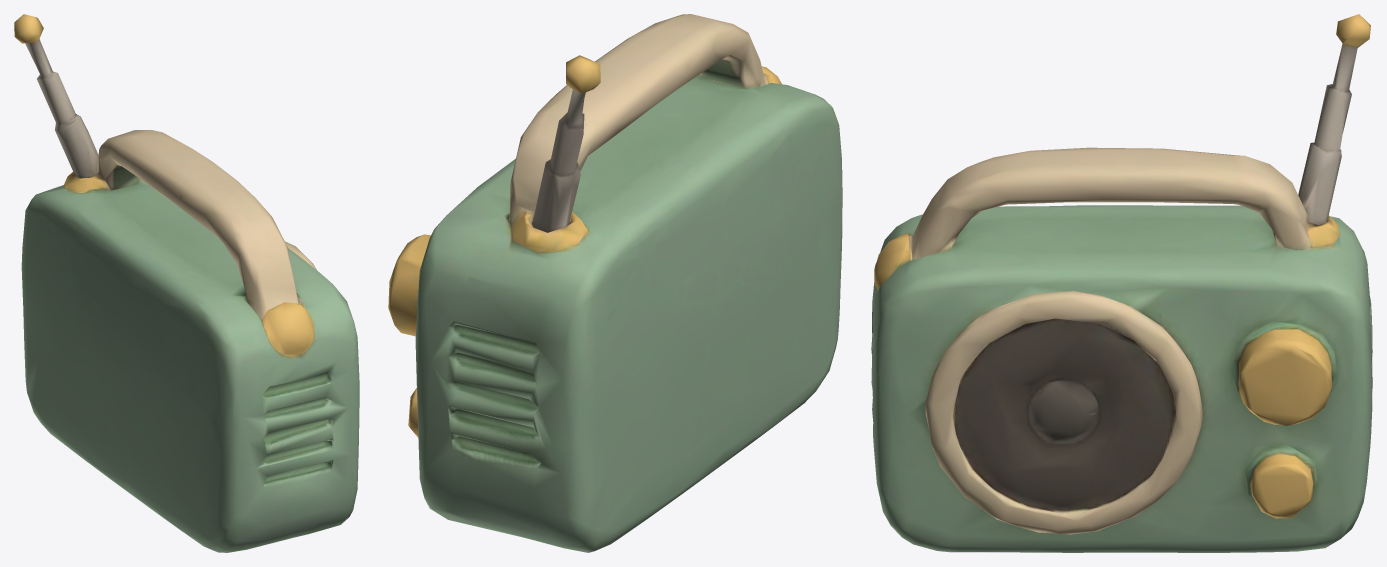
File: f-radio.glb
3 renders of one model, left to right at view 1: azimuth 30°, elevation 25°; view 2: azimuth 150°, elevation 25°; view 3: azimuth 270°, elevation 25°, orthographic. The views are drawn at different scales.
Parts seen in each view (by area): view 1: tripo_node_7c2ce1d5-04cf-45d6-9403-f73e33627702; view 2: tripo_node_7c2ce1d5-04cf-45d6-9403-f73e33627702; view 3: tripo_node_7c2ce1d5-04cf-45d6-9403-f73e33627702.
Part boxes in pixels (<box>): tripo_node_7c2ce1d5-04cf-45d6-9403-f73e33627702: <box>14,14,359,552</box>; tripo_node_7c2ce1d5-04cf-45d6-9403-f73e33627702: <box>388,14,842,552</box>; tripo_node_7c2ce1d5-04cf-45d6-9403-f73e33627702: <box>871,14,1372,552</box>.
Size of the model in its own units: 0.4584 by 1 by 0.9609.
1 material, 1 textured.
